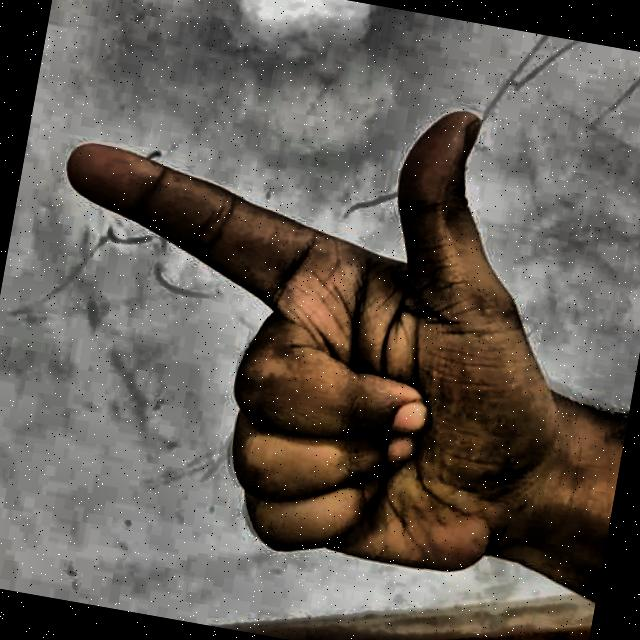Tha: (0, 24, 625, 640)
